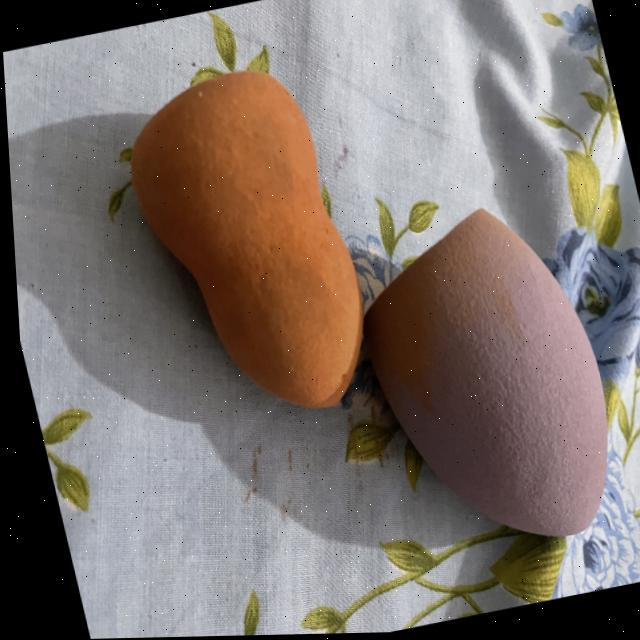beauty blender: (95, 40, 401, 466), (329, 188, 640, 581)
